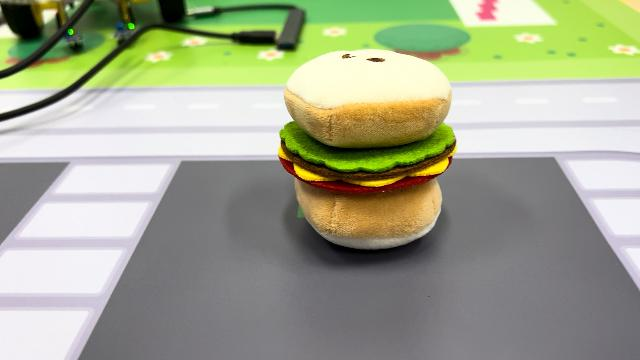sandwich: (275, 46, 459, 252)
